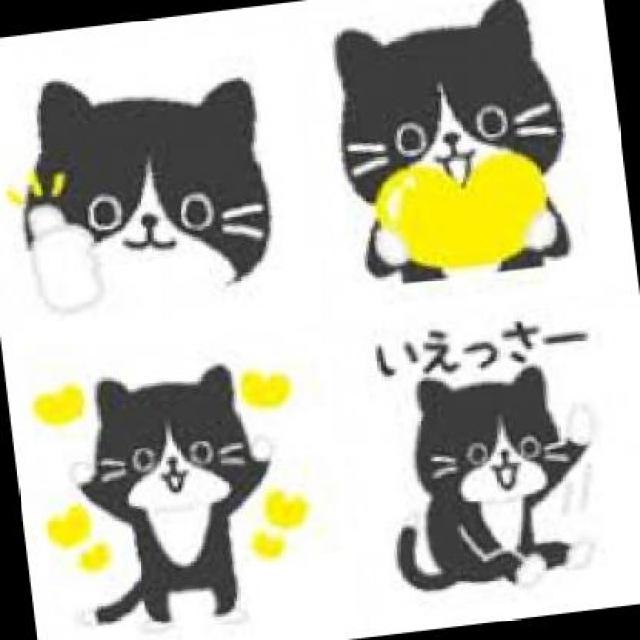animals: (0, 51, 306, 335), (316, 0, 596, 300), (51, 344, 294, 638), (358, 356, 619, 610)
